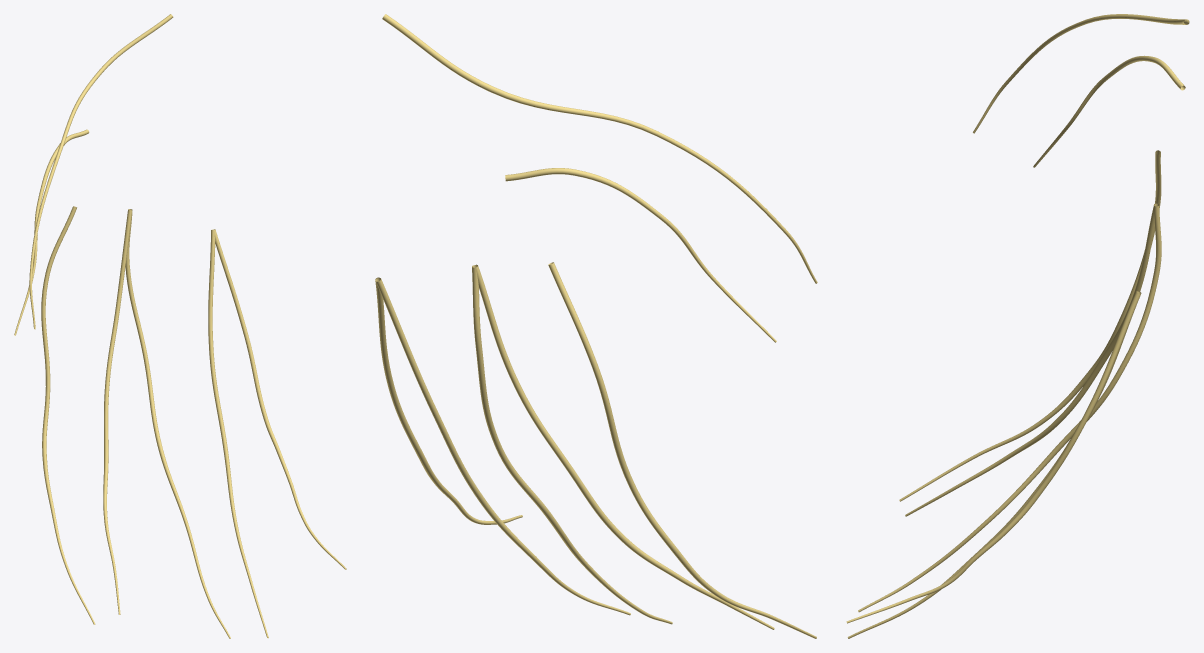
3 views of the same model, side by side, from view 1: azimuth 30°, elevation 25°; view 2: azimuth 150°, elevation 25°; view 3: azimuth 270°, elevation 25° (orthographic). The views are drawn at different scales.
Visible parts, largest first — view 1: ZA_f59b02745b569633; view 2: ZA_f59b02745b569633; view 3: ZA_f59b02745b569633.
Boxes of the visible parts, bbox=[...] form: ZA_f59b02745b569633: bbox=[14, 14, 346, 638]; ZA_f59b02745b569633: bbox=[375, 14, 817, 638]; ZA_f59b02745b569633: bbox=[846, 14, 1189, 638].
Size of the model in its own units: 0.067 by 0.1263 by 0.0611.
